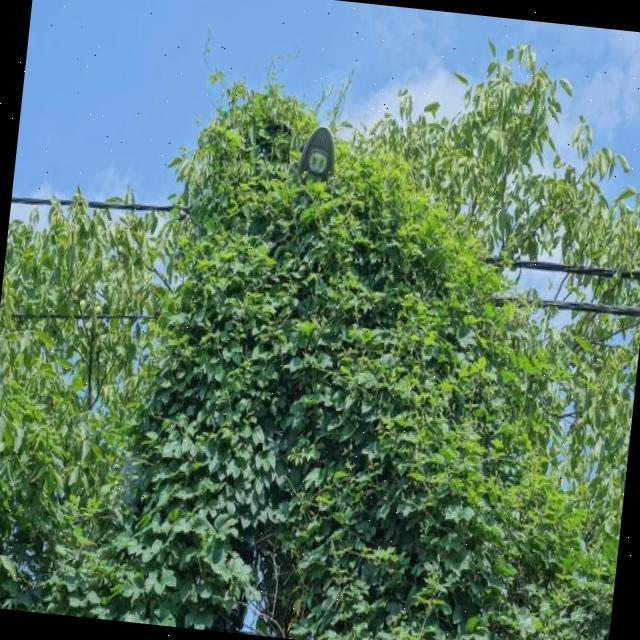critical vegetation: (129, 46, 608, 551)
